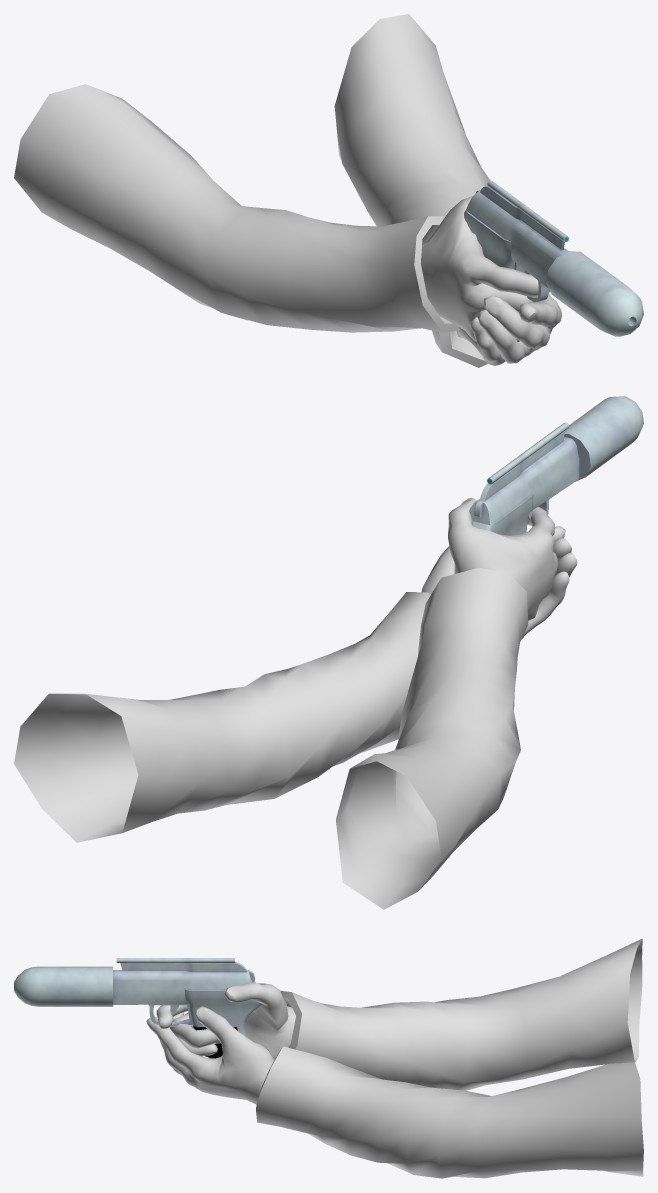
File: aimPoseMesh_03.fbx
3 renders of one model, top to bottom at view 1: azimuth 30°, elevation 25°; view 2: azimuth 150°, elevation 25°; view 3: azimuth 270°, elevation 25°, orthographic. The views are drawn at different scales.
Visible parts, largest first — view 1: Will; view 2: Will; view 3: Will.
Boxes of the visible parts, x1=… form: Will: x1=14, y1=14, x2=643, y2=367; Will: x1=14, y1=396, x2=643, y2=909; Will: x1=14, y1=938, x2=643, y2=1178.
Bounding box in the file's own units: 45.69 × 23.75 × 75.22.
